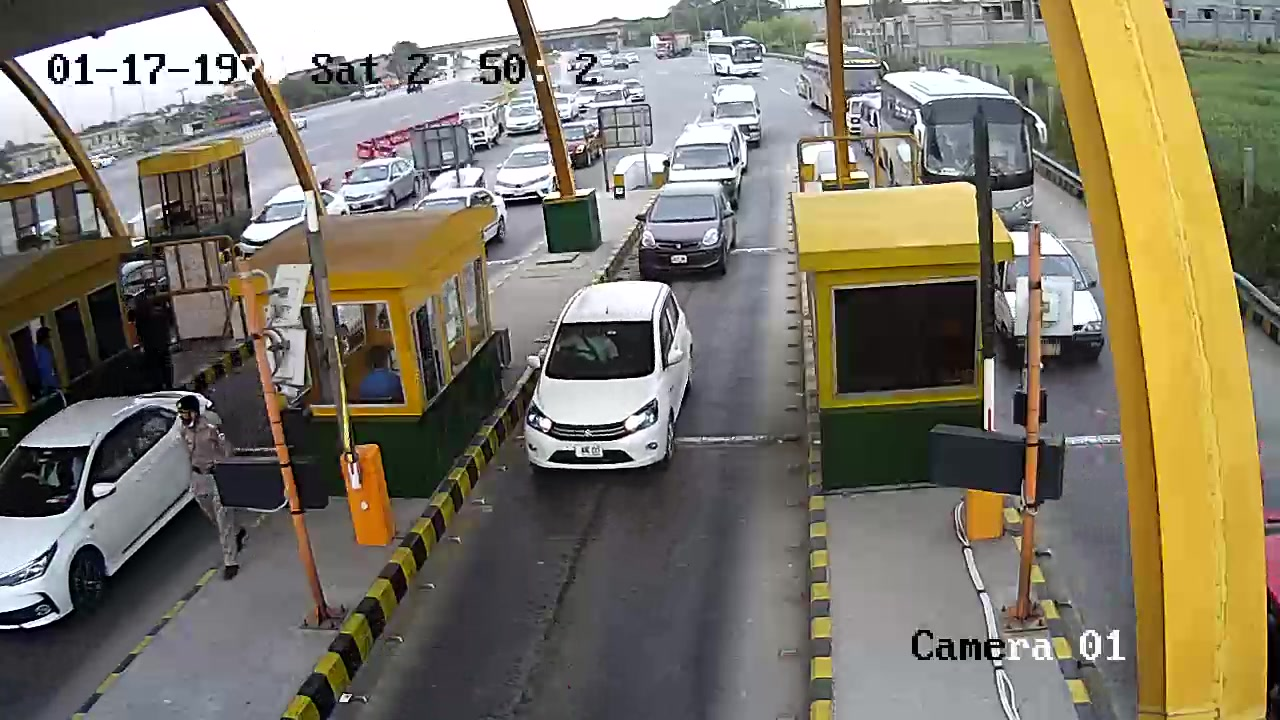F1: (518, 274, 700, 483)
